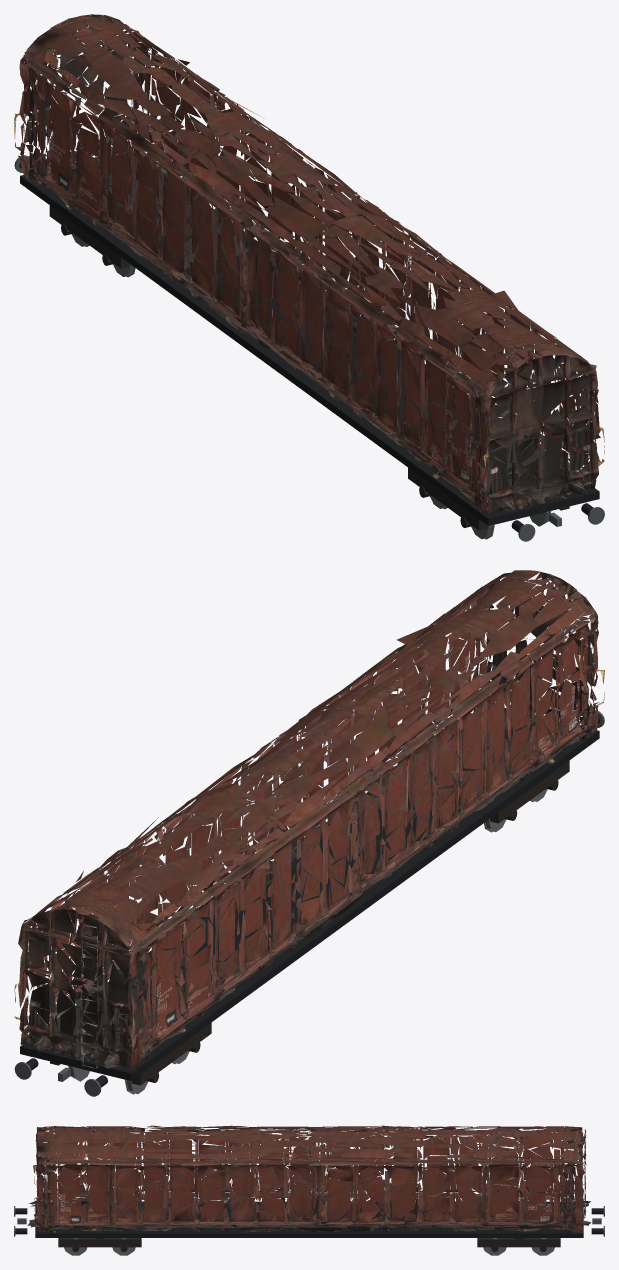
File: hbb_m.glb
3 views of the same model, one above another, from view 1: azimuth 30°, elevation 25°; view 2: azimuth 150°, elevation 25°; view 3: azimuth 270°, elevation 25° (orthographic). The views are drawn at different scales.
Visible parts, largest first — view 1: hbb_kori, hbb_frame, Bogie_R_side-1, Bogie_F_side-1; view 2: hbb_kori, hbb_frame, Bogie_F_side-1, Bogie_R_side-1; view 3: hbb_kori, hbb_frame, Bogie_F_side1, Bogie_R_side1.
Boxes of the visible parts, x1,y1,x2,y2 form: hbb_kori: (14, 14, 604, 514); hbb_frame: (20, 151, 599, 525); Bogie_R_side-1: (49, 205, 129, 268); Bogie_F_side-1: (408, 467, 487, 530); hbb_kori: (14, 570, 604, 1070); hbb_frame: (20, 708, 599, 1080); Bogie_F_side-1: (490, 760, 569, 823); Bogie_R_side-1: (131, 1022, 211, 1085); hbb_kori: (27, 1125, 591, 1233); hbb_frame: (35, 1201, 583, 1237); Bogie_F_side1: (58, 1238, 141, 1247); Bogie_R_side1: (477, 1238, 560, 1247).
Bounding box in the file's own units: 3.06 × 4.8 × 21.99.
5 materials, 1 textured.
